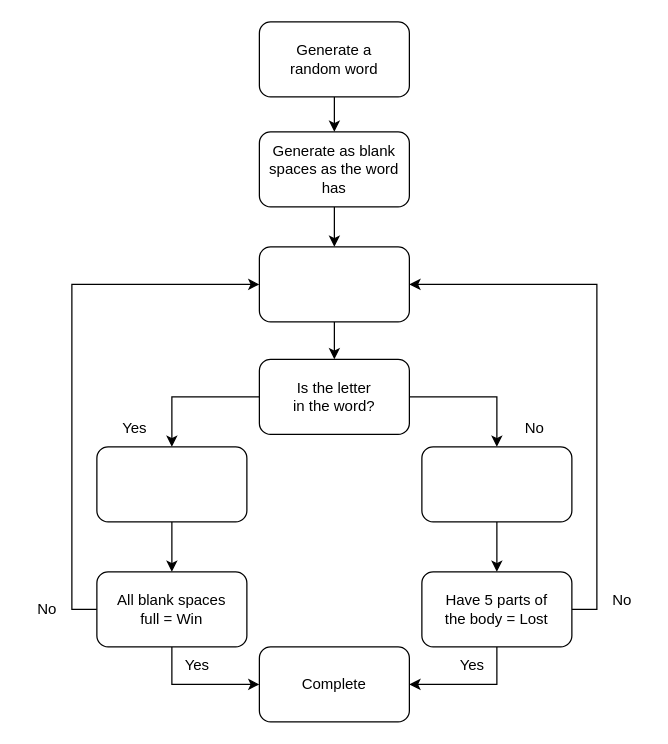
This 668x744 diagram has some shape labels left out. Here are the shapes that lost their labels. From the top down, the centre of each, then its label:
At point (333, 284): "Ask a player a letter".
At point (171, 484): "Replace a blank space".
At point (496, 484): "One part of the body apear".
